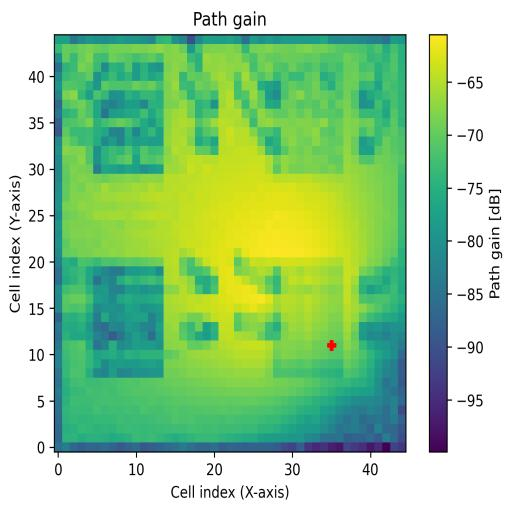Concrete: (273, 55, 345, 174)
Glass: (94, 52, 164, 174)
Metal: (272, 266, 344, 378)
Wood: (93, 266, 165, 378)
